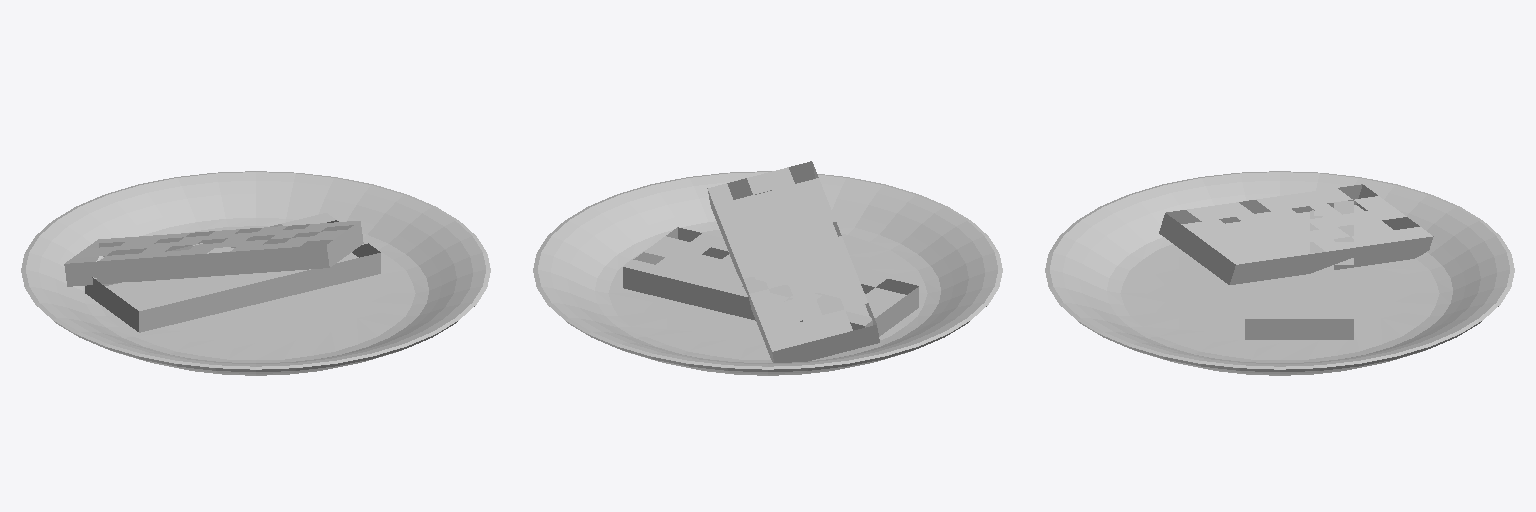
File: kue bapel.obj
3 renders of one model, left to right at view 1: azimuth 30°, elevation 25°; view 2: azimuth 150°, elevation 25°; view 3: azimuth 270°, elevation 25°, orthographic.
Visible parts, largest first — view 1: Cylinder, Cube.001, Cube; view 2: Cylinder, Cube.001, Cube; view 3: Cylinder, Cube.001, Cube.
Boxes of the visible parts, <box> form: Cylinder: <box>21,171,490,375</box>; Cube.001: <box>64,221,363,286</box>; Cube: <box>85,213,380,332</box>; Cylinder: <box>533,171,1002,375</box>; Cube.001: <box>707,161,879,362</box>; Cube: <box>623,227,918,336</box>; Cylinder: <box>1045,171,1514,375</box>; Cube.001: <box>1159,184,1433,284</box>; Cube: <box>1245,201,1353,339</box>.
Bounding box in the file's own units: 2.31 × 0.5392 × 2.31.